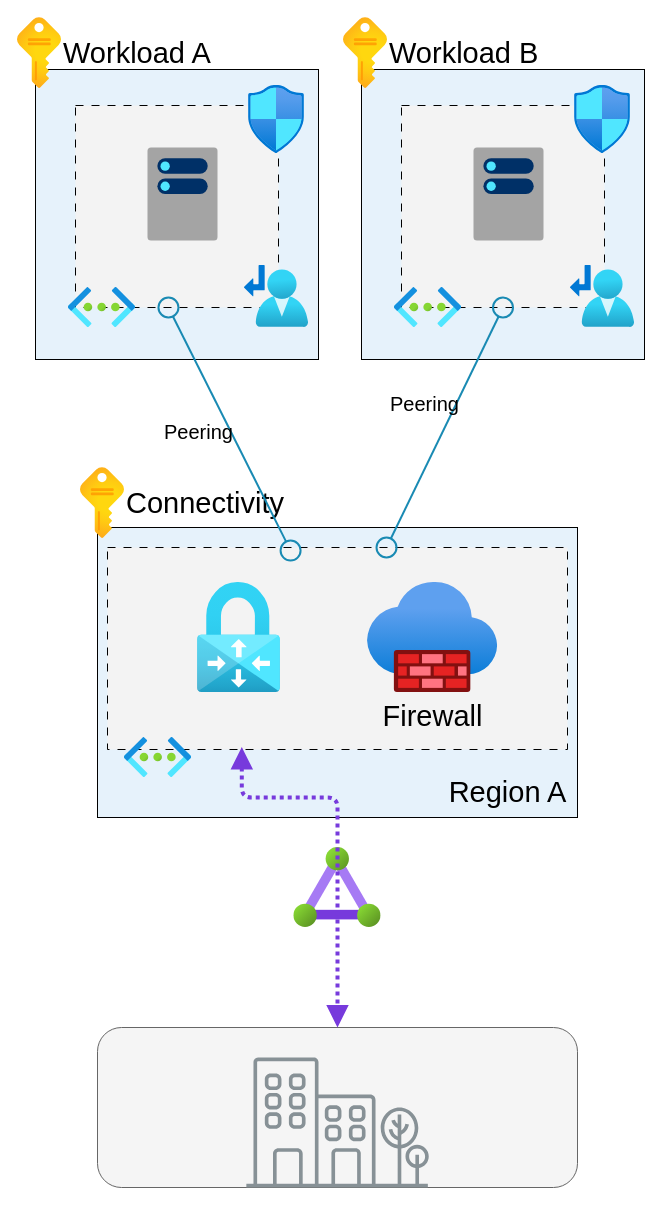
Some shapes in this 662 by 1205 pixel diagram are drawn without their labels. Here are the shapes that lost their labels. From the top down, the centre of each, then its label:
the point at 238,637: Gateway
the point at 337,887: Express Route Circuit
